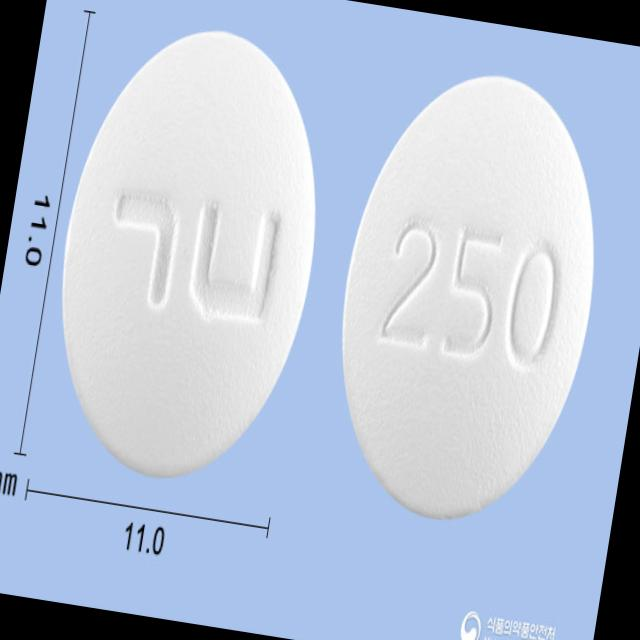Ciquroby: (26, 7, 354, 503), (307, 54, 628, 543)
